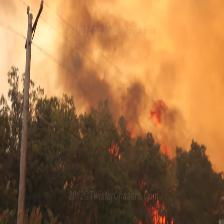fire: (100, 133, 187, 224)
smoke: (26, 0, 224, 136)
